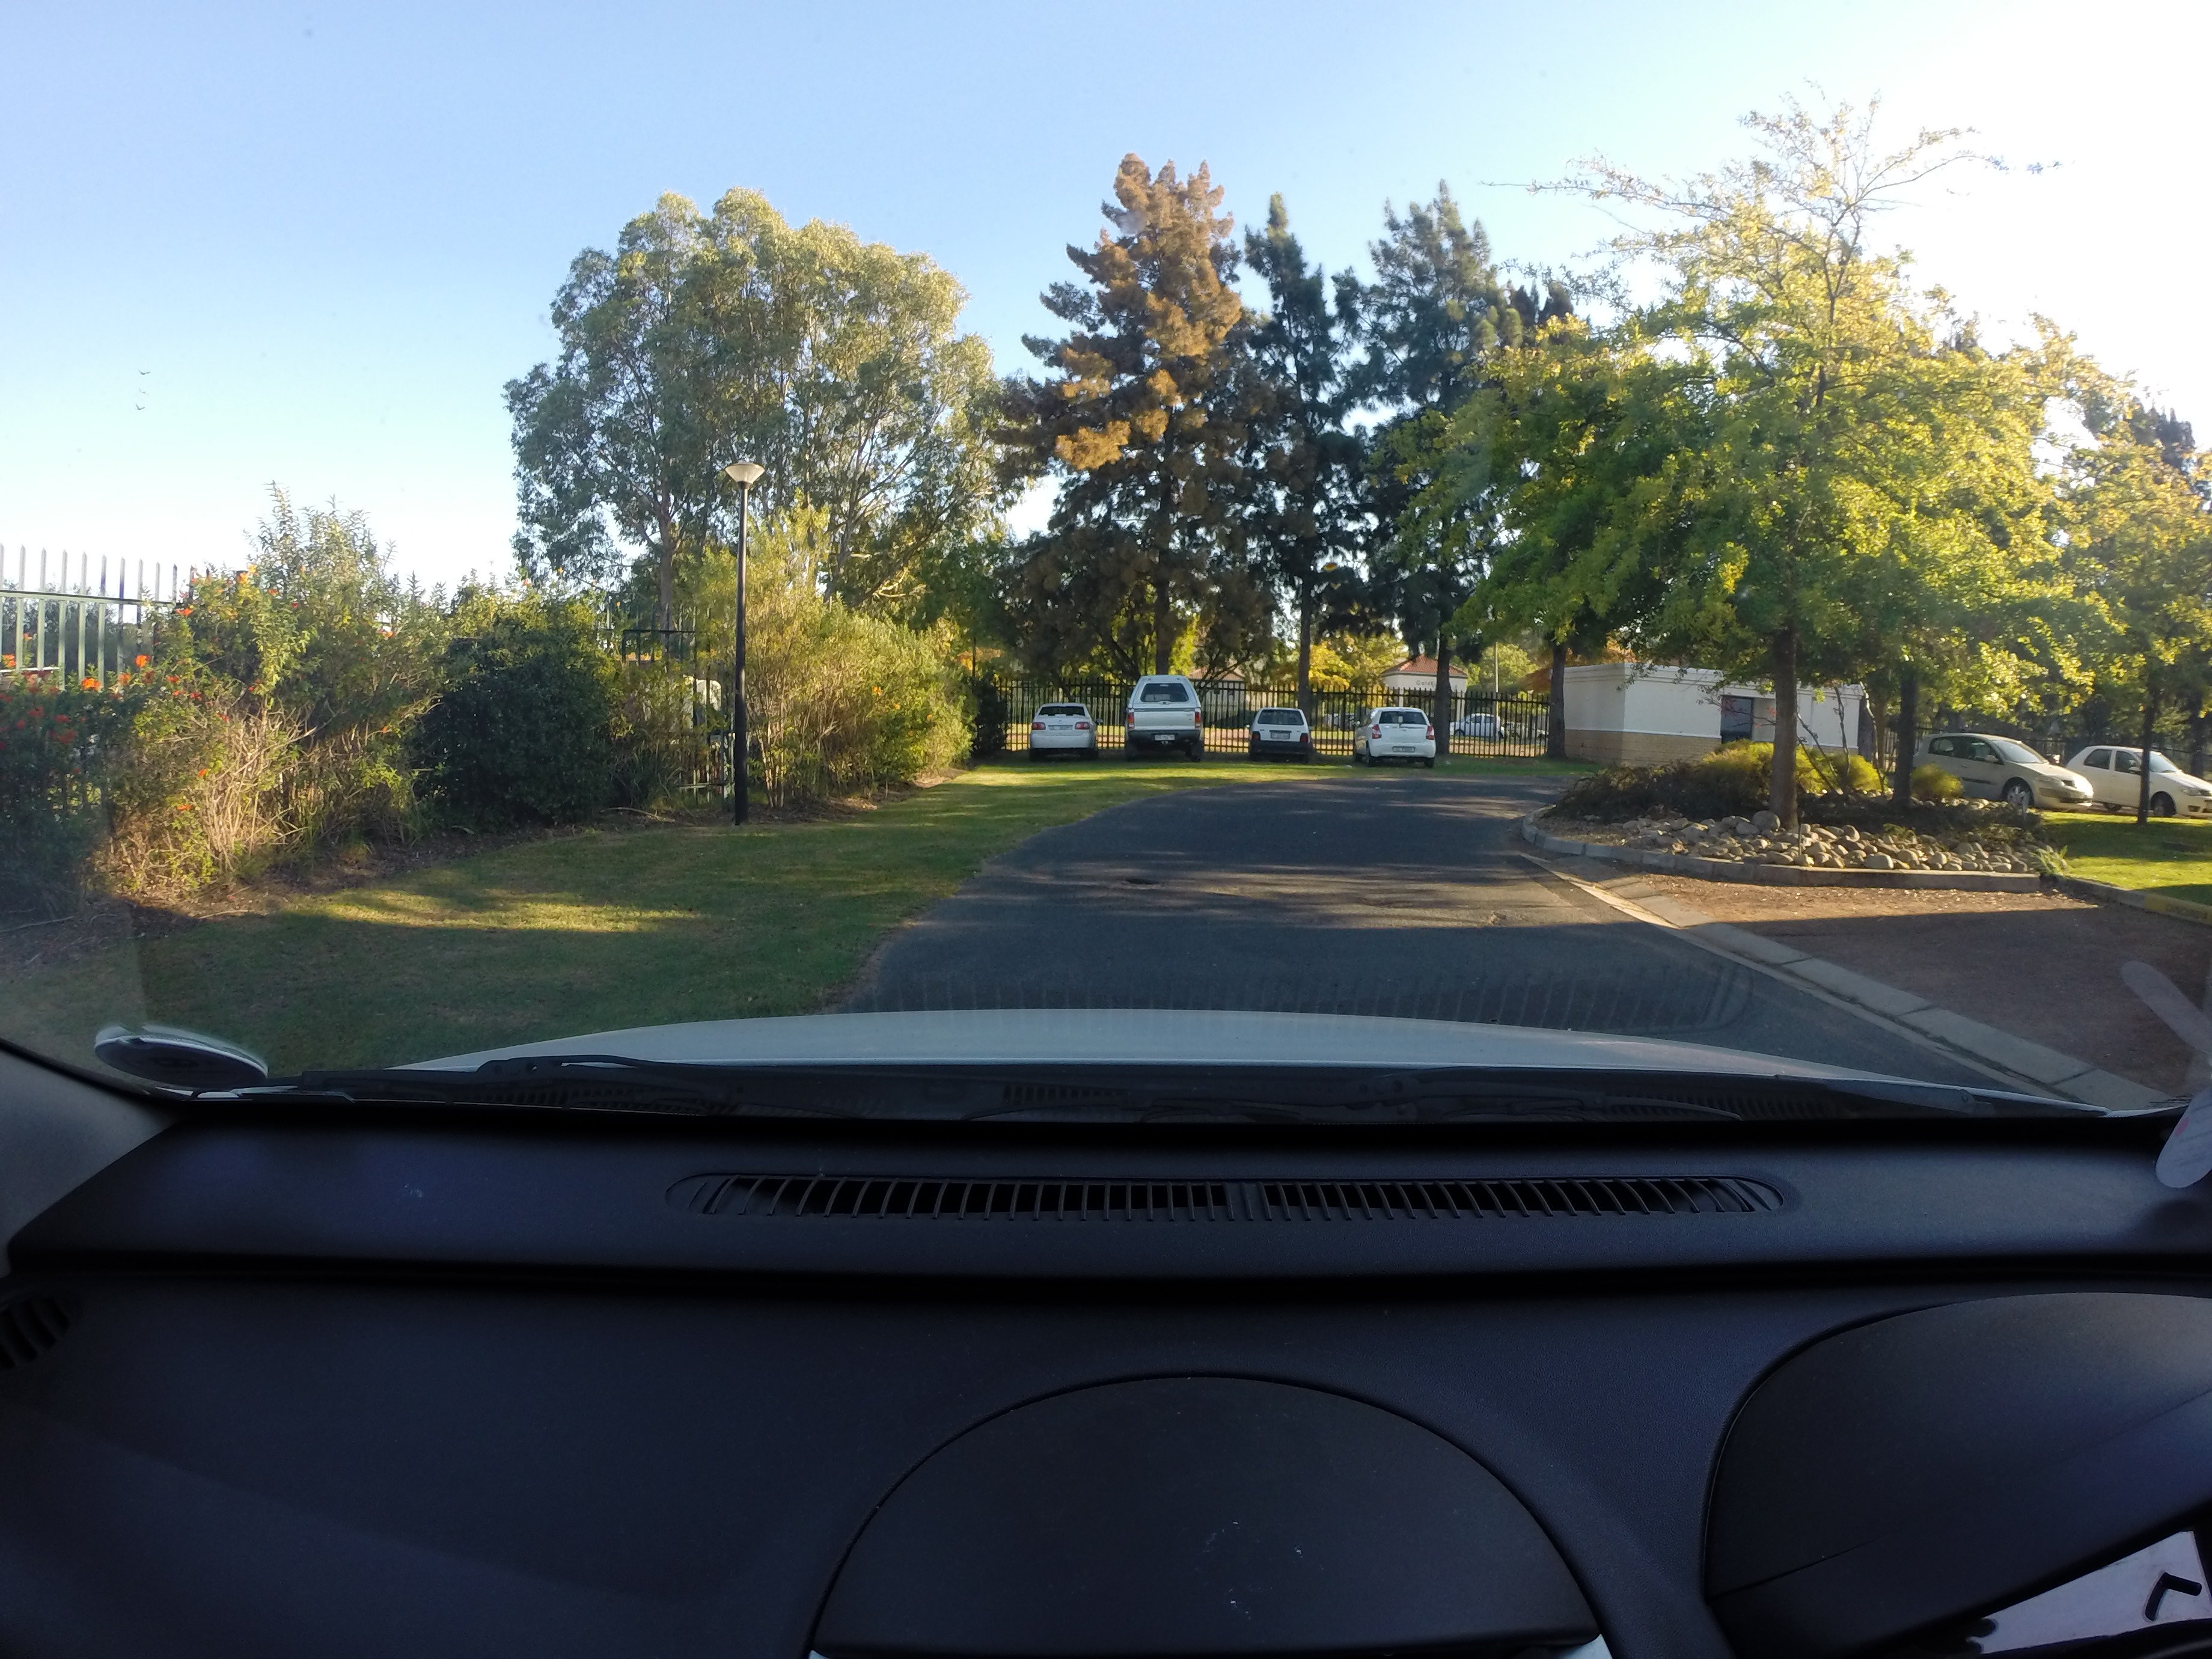pothole: (1116, 868, 1174, 899)
